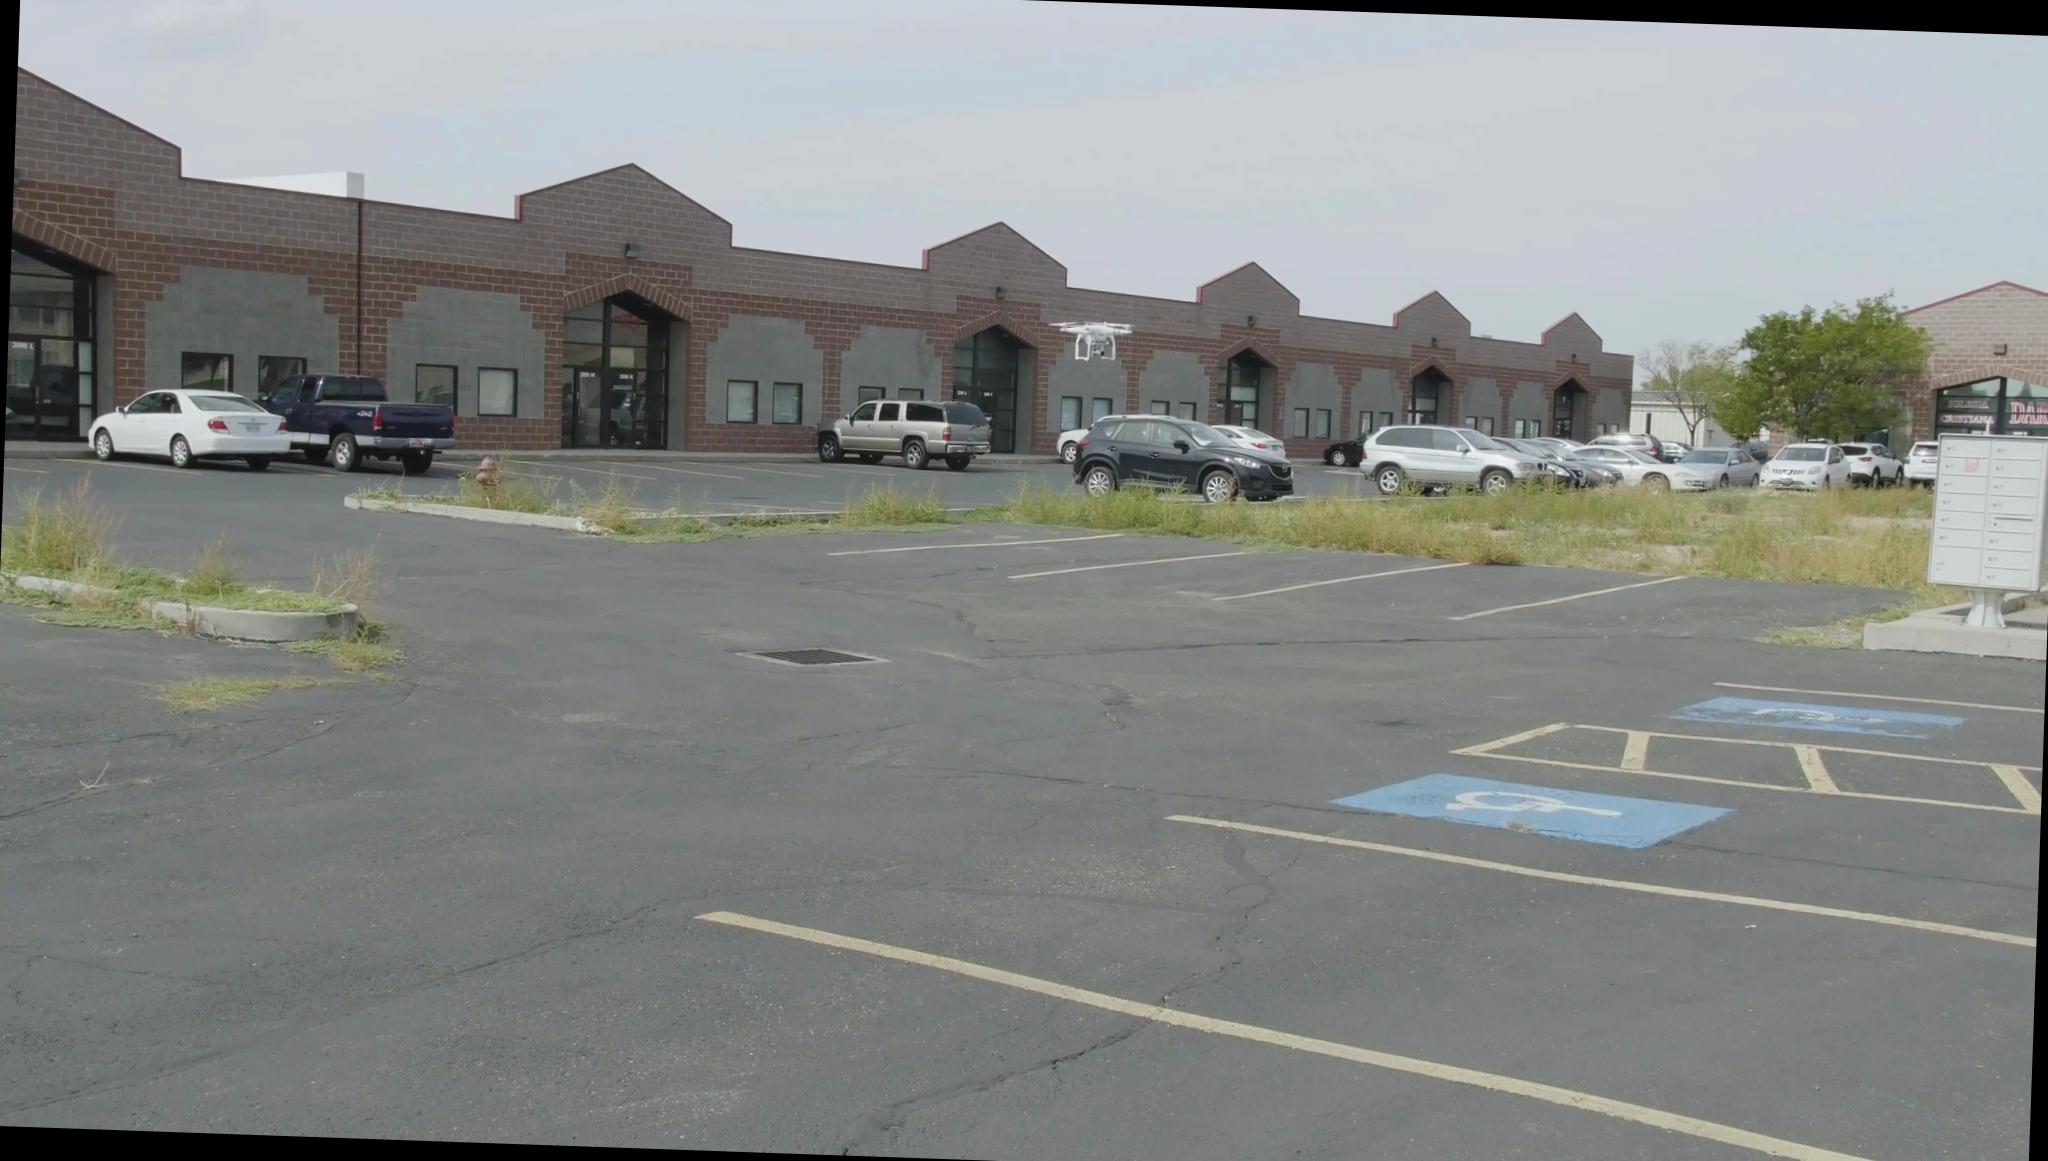drone: (1045, 307, 1134, 363)
